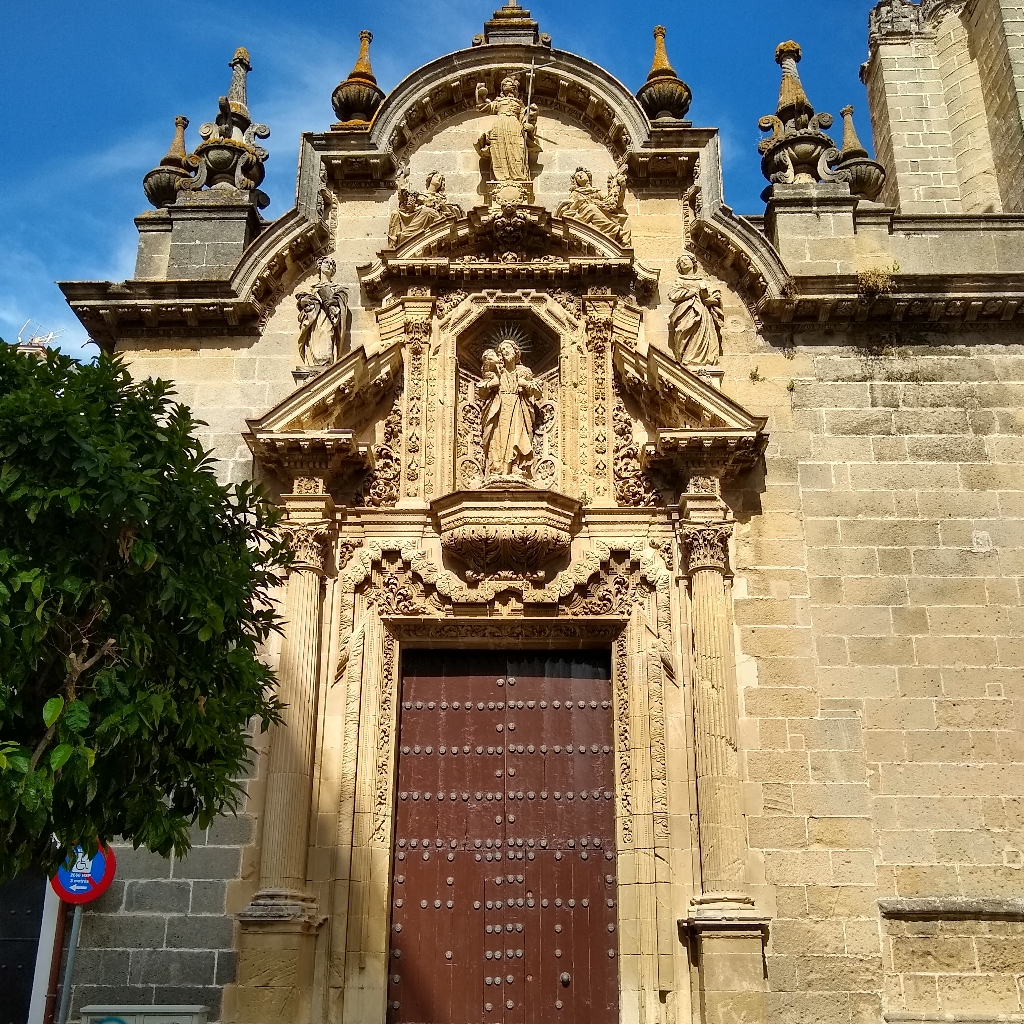arco-medio-punto: (354, 45, 651, 191)
fronton-curvo: (384, 201, 634, 272)
fronton-partido: (237, 323, 777, 459)
vano-adintelado: (348, 573, 651, 1024)
